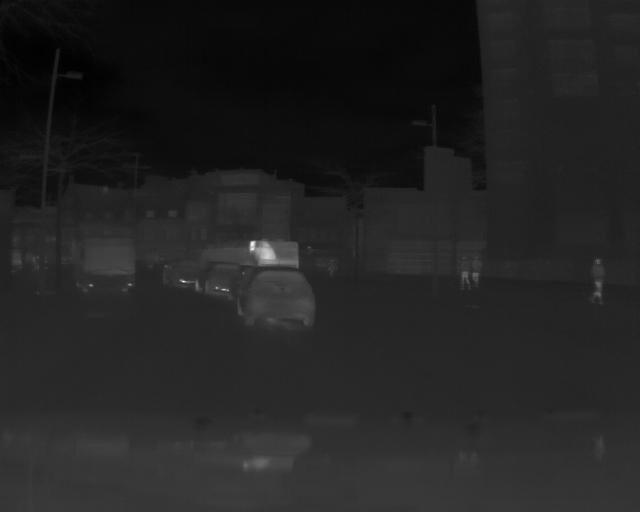car: (233, 266, 317, 330), (74, 239, 140, 297), (161, 257, 195, 287)
person: (588, 256, 609, 308), (455, 253, 471, 292), (471, 255, 484, 292)
